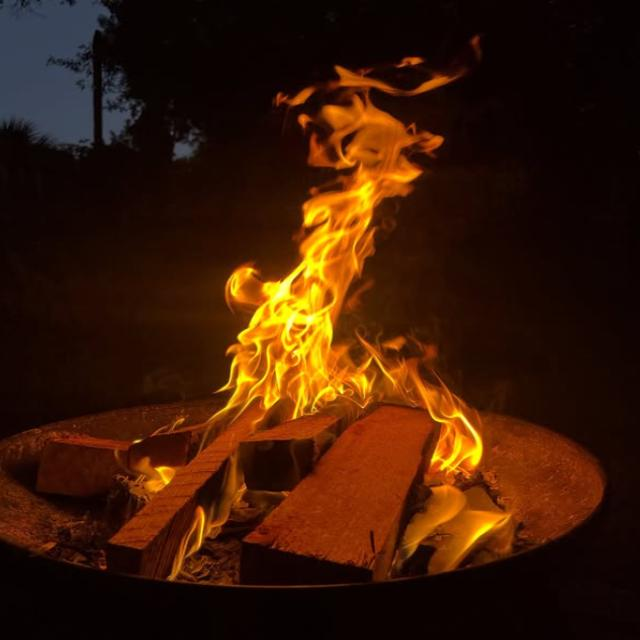fire: (213, 261, 464, 423), (273, 57, 443, 285), (396, 485, 516, 575), (423, 407, 484, 486), (206, 456, 248, 539), (166, 506, 205, 581), (117, 451, 175, 501)
